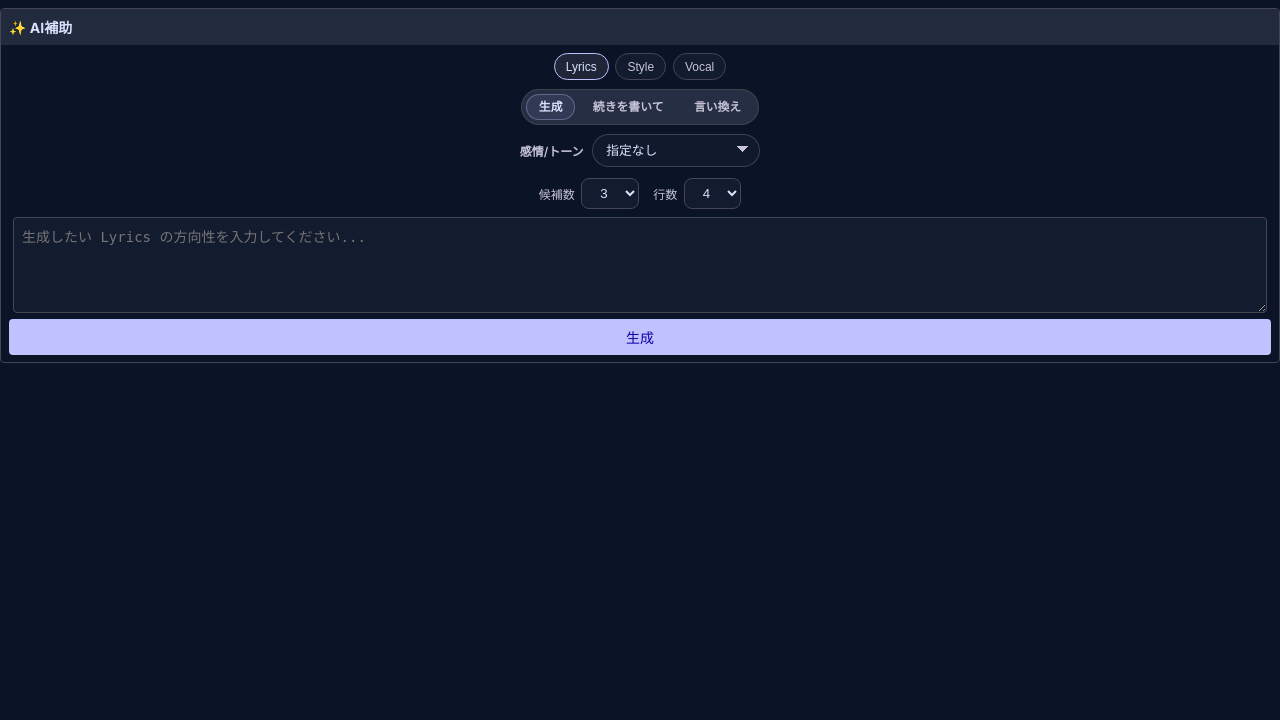
Test case: LLMAssistPanel › raw response handling › should handle non-JSON response as single candidate
Click the button "生成" at (640, 337), box left=9, top=319, right=1271, bottom=355
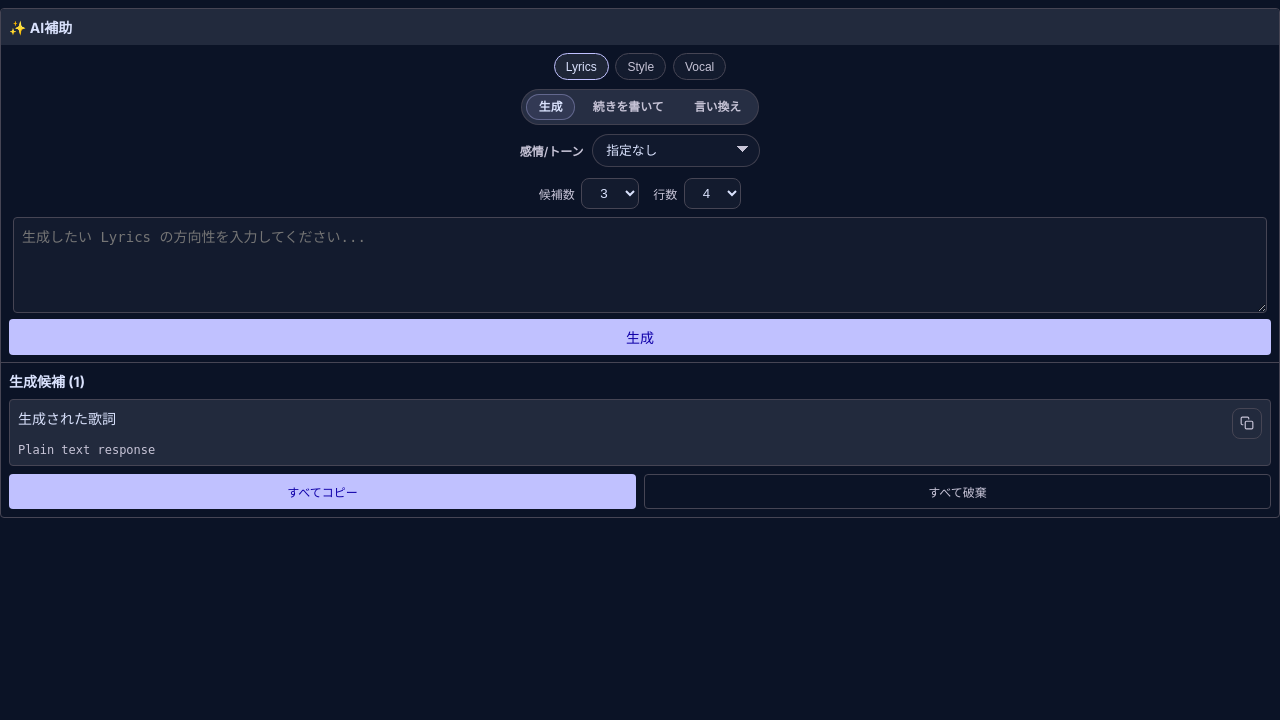
Expected: the text "生成された歌詞" is shown, left=18, top=408, right=116, bottom=428
